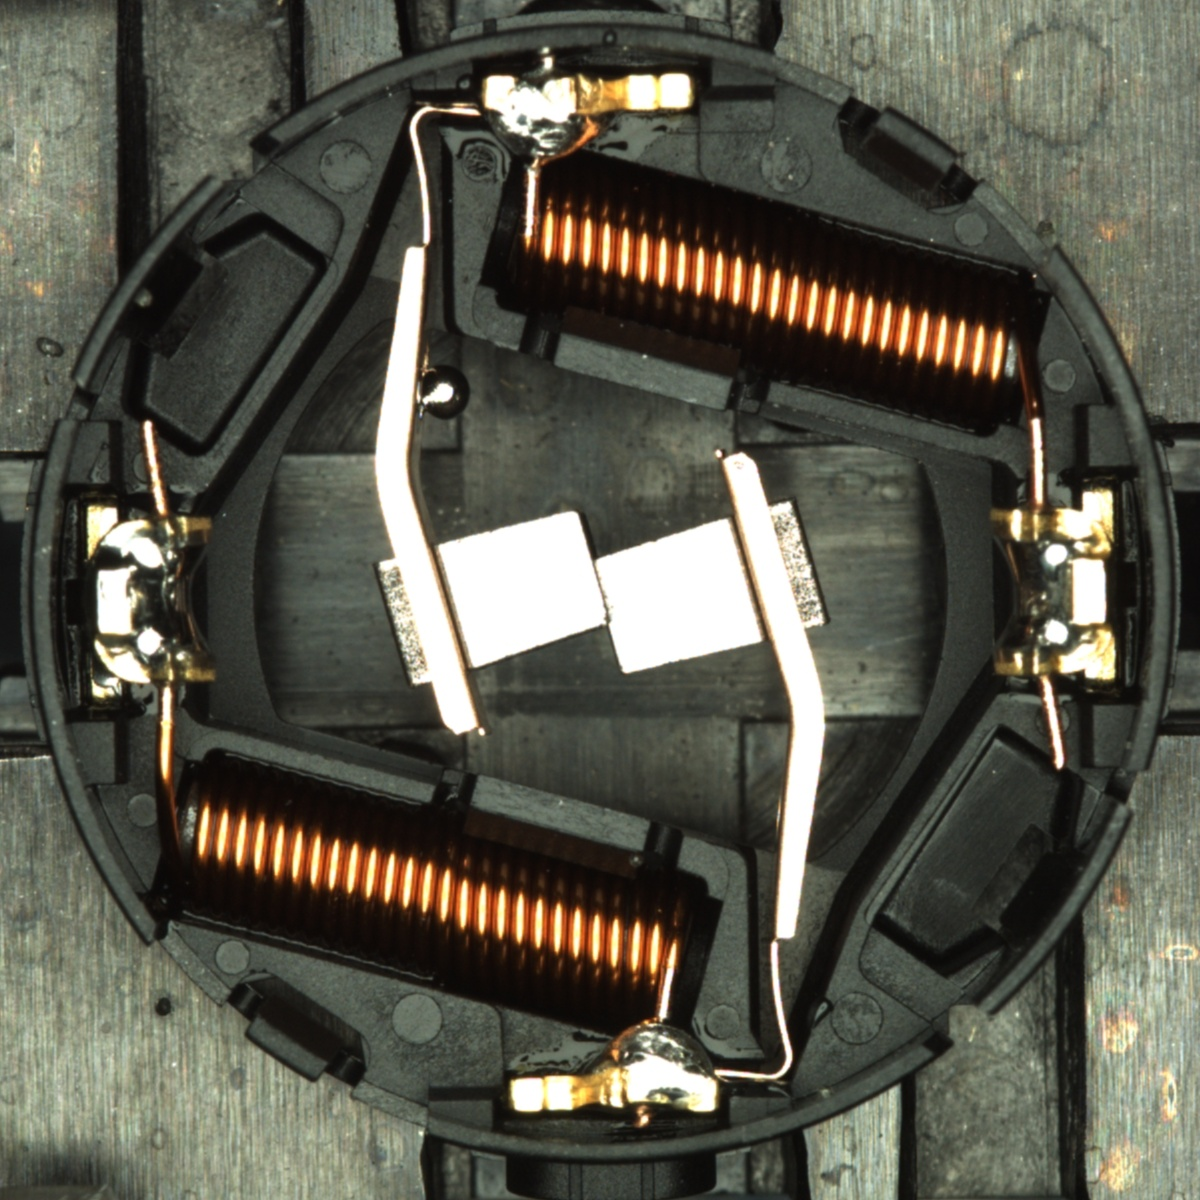1: (712, 927, 942, 1153), (254, 31, 484, 255)
2: (254, 927, 484, 1153), (712, 31, 942, 255)
3: (25, 255, 254, 479), (942, 704, 1171, 927)
4: (712, 704, 942, 927)
5: (484, 143, 712, 367), (484, 816, 712, 1040)
6: (712, 255, 942, 479), (254, 704, 484, 927)
7: (942, 255, 1171, 479), (25, 704, 254, 927)
cacbon: (395, 498, 802, 685)
chau_dien: (80, 499, 220, 700), (984, 488, 1123, 688)
hat_chi: (415, 363, 469, 419)
tay_choi: (480, 70, 698, 169), (508, 1016, 721, 1116)
thanh_de: (953, 787, 1140, 1031), (58, 163, 245, 405)
